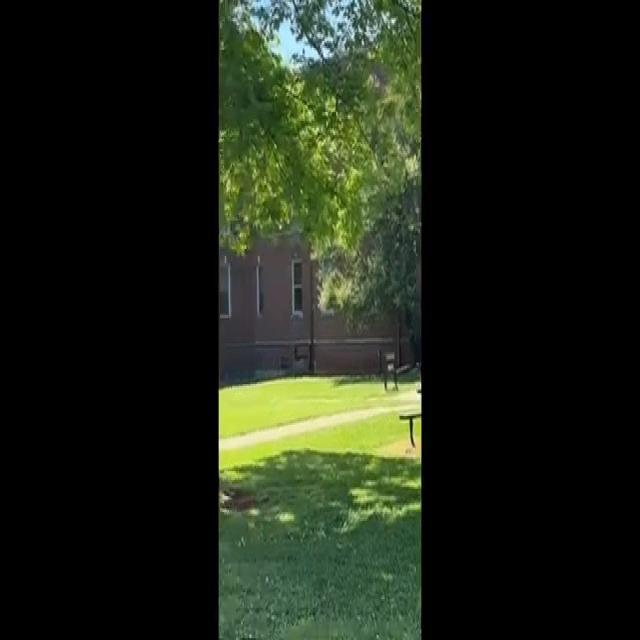drone: (252, 88, 279, 108)
